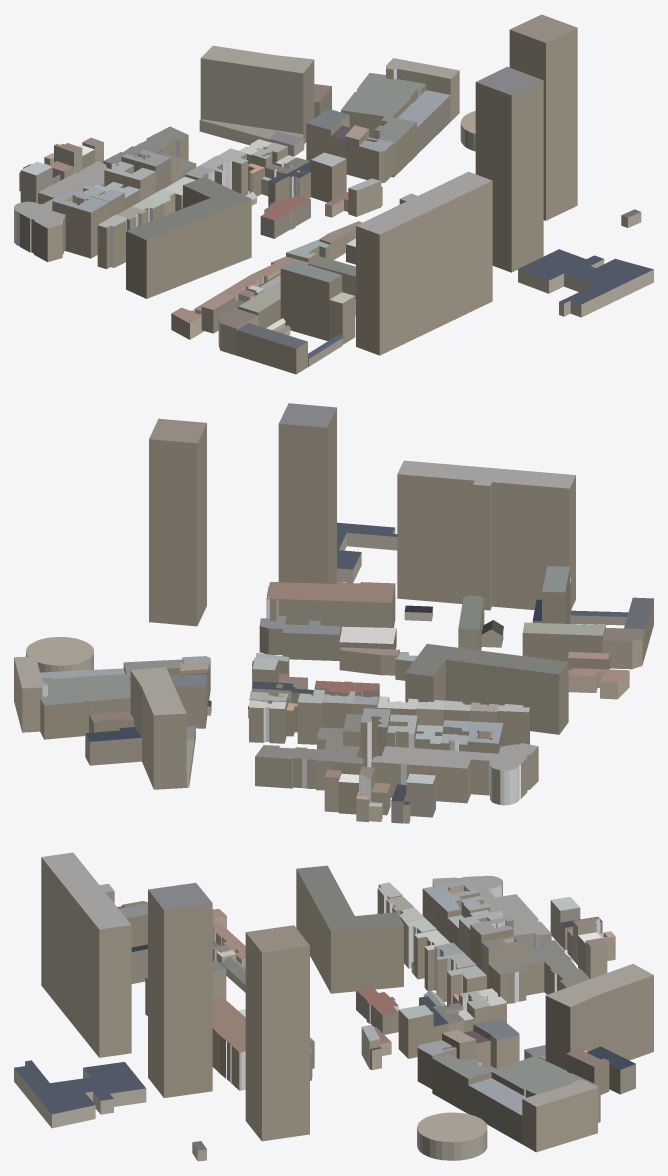
3 views of the same model, one above another, from view 1: azimuth 30°, elevation 25°; view 2: azimuth 150°, elevation 25°; view 3: azimuth 270°, elevation 25° (orthographic). The views are drawn at different scales.
Parts seen in each view (by area): view 1: tuile; view 2: tuile; view 3: tuile.
Boxes of the visible parts, x1,y1,x2,y2 form: tuile: [14, 14, 653, 374]; tuile: [14, 403, 653, 823]; tuile: [14, 852, 653, 1161].
Bounding box in the file's own units: 277 × 102 × 296.
